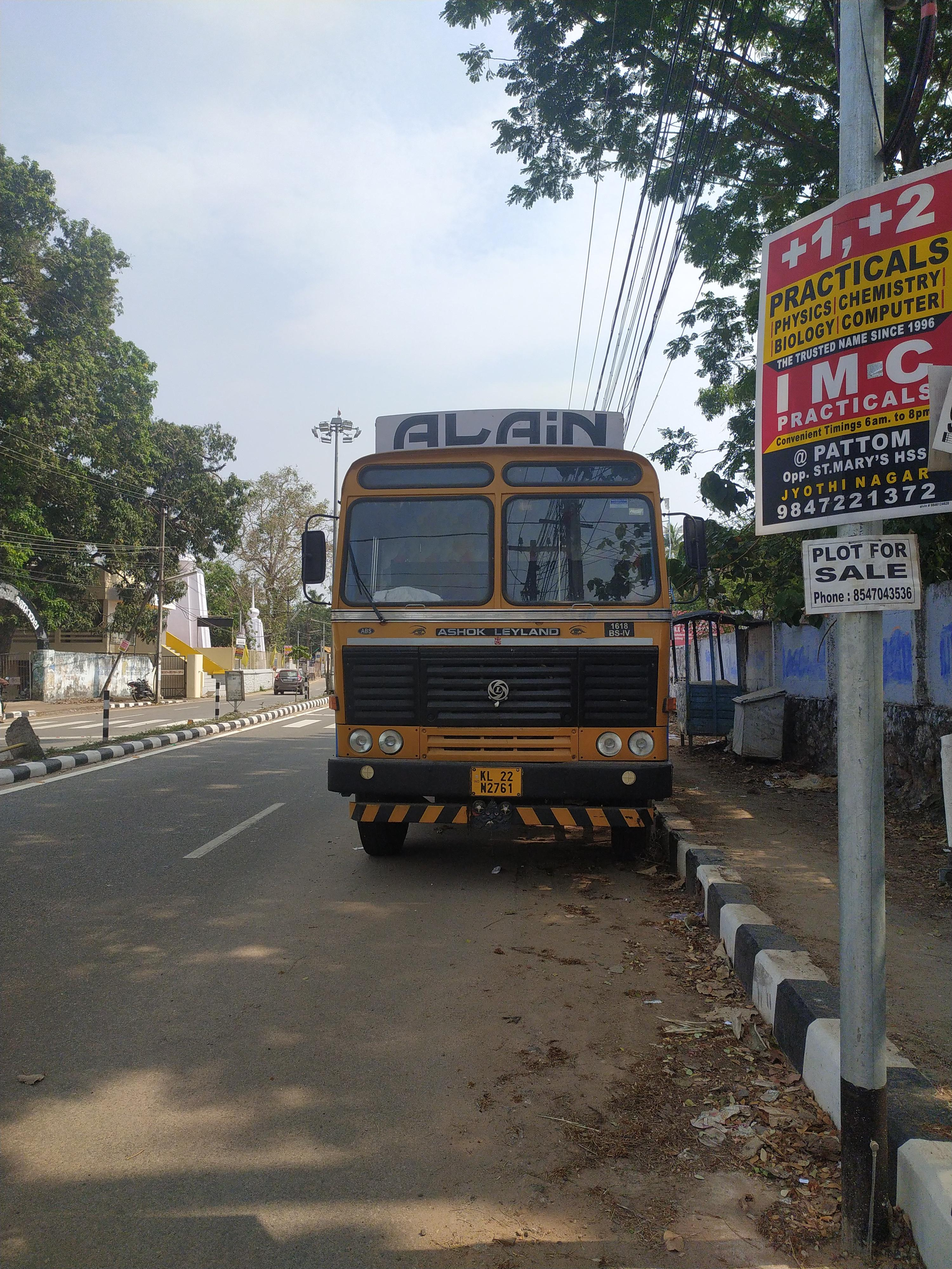non-ambulance: (280, 364, 737, 894)
